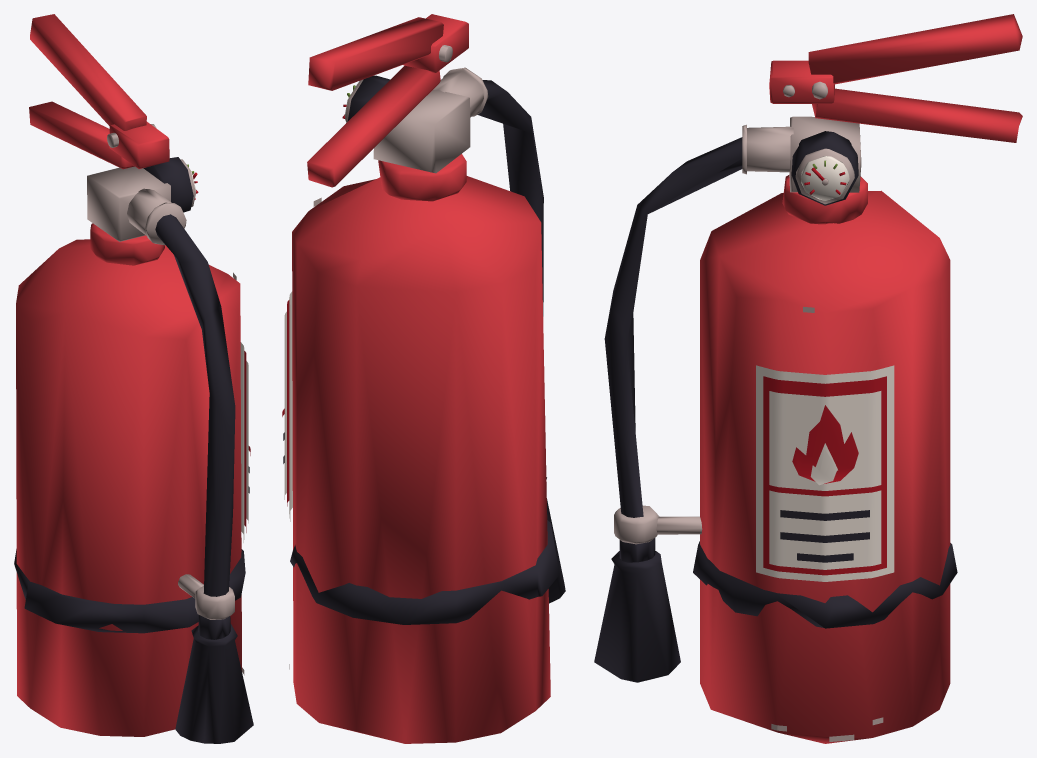
3 renders of one model, left to right at view 1: azimuth 30°, elevation 25°; view 2: azimuth 150°, elevation 25°; view 3: azimuth 270°, elevation 25°, orthographic. The views are drawn at different scales.
Visible parts, largest first — view 1: body, object 2; view 2: body, object 2; view 3: body, object 2.
Part boxes in pixels (<box>): body: <box>16,101,241,736</box>; object 2: <box>14,14,253,743</box>; body: <box>292,14,550,743</box>; object 2: <box>282,17,565,669</box>; body: <box>700,60,1022,743</box>; object 2: <box>594,14,1022,741</box>.
Bounding box in the file's own units: 0.412 × 1.14 × 0.6512.
